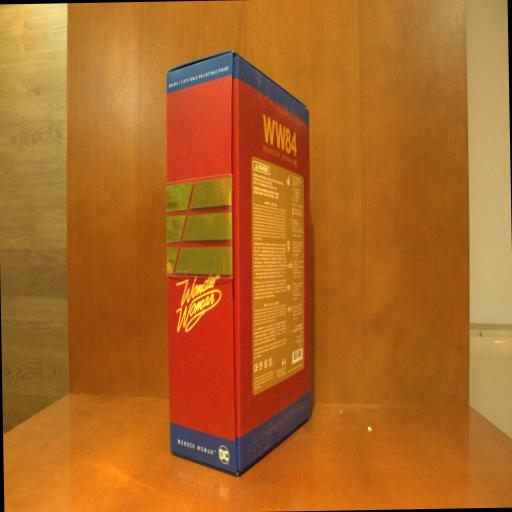WonderWoman: (164, 49, 318, 480)
